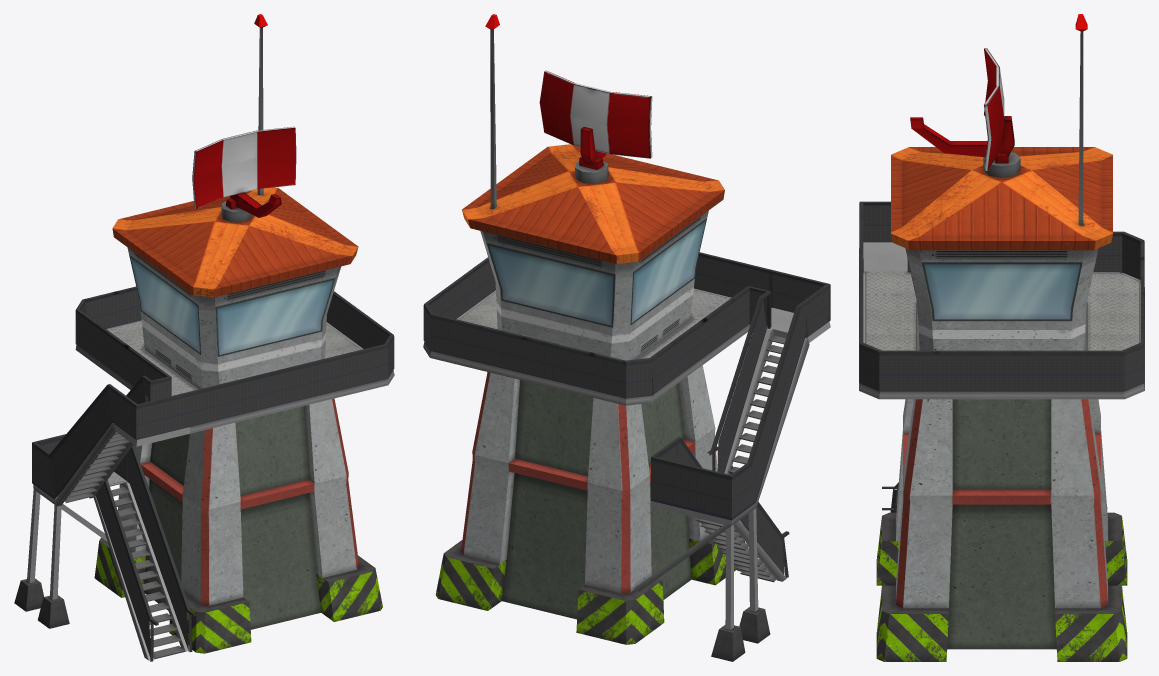
The model's file is Control_Tower.fbx.
3 views of the same model, side by side, from view 1: azimuth 30°, elevation 25°; view 2: azimuth 150°, elevation 25°; view 3: azimuth 270°, elevation 25° (orthographic). The views are drawn at different scales.
Parts seen in each view (by area): view 1: Control_Tower, Radar; view 2: Control_Tower, Radar; view 3: Control_Tower, Radar.
Part boxes in pixels (<box>): Control_Tower: <box>14,14,394,661</box>; Radar: <box>192,126,296,217</box>; Control_Tower: <box>423,14,830,661</box>; Radar: <box>539,70,652,169</box>; Control_Tower: <box>859,14,1144,661</box>; Radar: <box>910,48,1014,170</box>.
Bounding box in the file's own units: 47.66 × 87.21 × 36.02.
